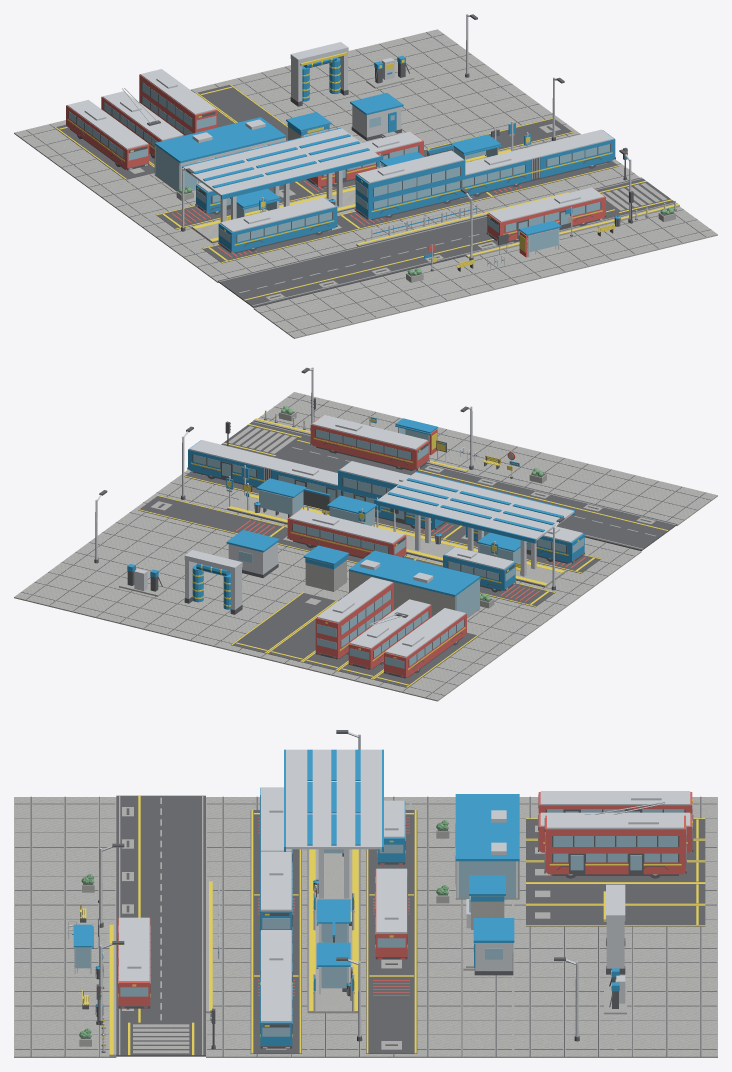
File: otobus.glb
3 renders of one model, top to bottom at view 1: azimuth 30°, elevation 25°; view 2: azimuth 150°, elevation 25°; view 3: azimuth 270°, elevation 25°, orthographic. The views are drawn at different scales.
Visible parts, largest first — view 1: 005-concrete-apron-tile/concrete-apron-tile-concrete, 011-concrete-apron-tile/concrete-apron-tile-concrete, 031-concrete-apron-tile/concrete-apron-tile-concrete, 017-concrete-apron-tile/concrete-apron-tile-concrete, 030-concrete-apron-tile/concrete-apron-tile-concrete, 032-concrete-apron-tile/concrete-apron-tile-concrete, 035-concrete-apron-tile/concrete-apron-tile-concrete, 029-concrete-apron-tile/concrete-apron-tile-concrete, 023-concrete-apron-tile/concrete-apron-tile-concrete, 052-double-decker-bus/double-decker-bus-azure, 002-concrete-apron-tile/concrete-apron-tile-concrete, 053-articulated-bus/articulated-bus-azure (+64 smaller); view 2: 030-concrete-apron-tile/concrete-apron-tile-concrete, 018-concrete-apron-tile/concrete-apron-tile-concrete, 005-concrete-apron-tile/concrete-apron-tile-concrete, 011-concrete-apron-tile/concrete-apron-tile-concrete, 024-concrete-apron-tile/concrete-apron-tile-concrete, 032-concrete-apron-tile/concrete-apron-tile-concrete, 031-concrete-apron-tile/concrete-apron-tile-concrete, 017-concrete-apron-tile/concrete-apron-tile-concrete, 002-concrete-apron-tile/concrete-apron-tile-concrete, 085-depot-parking-bay-tile/depot-parking-bay-tile-charcoal, 038-bus-stand-bay-module/bus-stand-bay-module-charcoal, 019-concrete-apron-tile/concrete-apron-tile-concrete (+67 smaller); view 3: 030-concrete-apron-tile/concrete-apron-tile-concrete, 005-concrete-apron-tile/concrete-apron-tile-concrete, 031-concrete-apron-tile/concrete-apron-tile-concrete, 032-concrete-apron-tile/concrete-apron-tile-concrete, 011-concrete-apron-tile/concrete-apron-tile-concrete, 017-concrete-apron-tile/concrete-apron-tile-concrete, 018-concrete-apron-tile/concrete-apron-tile-concrete, 026-concrete-apron-tile/concrete-apron-tile-concrete, 024-concrete-apron-tile/concrete-apron-tile-concrete, 035-concrete-apron-tile/concrete-apron-tile-concrete, 019-concrete-apron-tile/concrete-apron-tile-concrete, 025-concrete-apron-tile/concrete-apron-tile-concrete (+81 smaller).
Boxes of the visible parts, x1,y1,x2,y2 form: 005-concrete-apron-tile/concrete-apron-tile-concrete: [253, 291, 364, 338]; 011-concrete-apron-tile/concrete-apron-tile-concrete: [324, 273, 435, 321]; 031-concrete-apron-tile/concrete-apron-tile-concrete: [411, 59, 518, 105]; 017-concrete-apron-tile/concrete-apron-tile-concrete: [395, 256, 505, 304]; 030-concrete-apron-tile/concrete-apron-tile-concrete: [367, 29, 477, 75]; 032-concrete-apron-tile/concrete-apron-tile-concrete: [449, 89, 559, 133]; 035-concrete-apron-tile/concrete-apron-tile-concrete: [610, 206, 717, 252]; 029-concrete-apron-tile/concrete-apron-tile-concrete: [548, 224, 647, 269]; 023-concrete-apron-tile/concrete-apron-tile-concrete: [468, 245, 576, 287]; 052-double-decker-bus/double-decker-bus-azure: [355, 151, 465, 219]; 002-concrete-apron-tile/concrete-apron-tile-concrete: [95, 177, 195, 222]; 053-articulated-bus/articulated-bus-azure: [456, 130, 615, 197]; 030-concrete-apron-tile/concrete-apron-tile-concrete: [14, 567, 121, 615]; 018-concrete-apron-tile/concrete-apron-tile-concrete: [155, 602, 265, 649]; 005-concrete-apron-tile/concrete-apron-tile-concrete: [608, 478, 717, 525]; 011-concrete-apron-tile/concrete-apron-tile-concrete: [537, 461, 646, 506]; 024-concrete-apron-tile/concrete-apron-tile-concrete: [84, 588, 194, 632]; 032-concrete-apron-tile/concrete-apron-tile-concrete: [97, 507, 203, 554]; 031-concrete-apron-tile/concrete-apron-tile-concrete: [55, 538, 165, 583]; 017-concrete-apron-tile/concrete-apron-tile-concrete: [467, 443, 576, 489]; 002-concrete-apron-tile/concrete-apron-tile-concrete: [467, 596, 559, 641]; 085-depot-parking-bay-tile/depot-parking-bay-tile-charcoal: [231, 593, 336, 653]; 038-bus-stand-bay-module/bus-stand-bay-module-charcoal: [138, 496, 287, 537]; 019-concrete-apron-tile/concrete-apron-tile-concrete: [199, 573, 306, 618]; 030-concrete-apron-tile/concrete-apron-tile-concrete: [615, 1013, 717, 1057]; 005-concrete-apron-tile/concrete-apron-tile-concrete: [14, 797, 116, 840]; 031-concrete-apron-tile/concrete-apron-tile-concrete: [513, 1013, 615, 1057]; 032-concrete-apron-tile/concrete-apron-tile-concrete: [410, 1013, 513, 1057]; 011-concrete-apron-tile/concrete-apron-tile-concrete: [14, 840, 116, 883]; 017-concrete-apron-tile/concrete-apron-tile-concrete: [14, 883, 116, 926]; 018-concrete-apron-tile/concrete-apron-tile-concrete: [624, 926, 717, 969]; 026-concrete-apron-tile/concrete-apron-tile-concrete: [417, 970, 513, 1013]; 024-concrete-apron-tile/concrete-apron-tile-concrete: [619, 970, 717, 1013]; 035-concrete-apron-tile/concrete-apron-tile-concrete: [14, 1013, 116, 1057]; 019-concrete-apron-tile/concrete-apron-tile-concrete: [513, 926, 606, 969]; 025-concrete-apron-tile/concrete-apron-tile-concrete: [513, 970, 611, 1013].
Size of the model in its own units: 48 by 7.2 by 55.
Materials: 8 (1 with a texture image).
